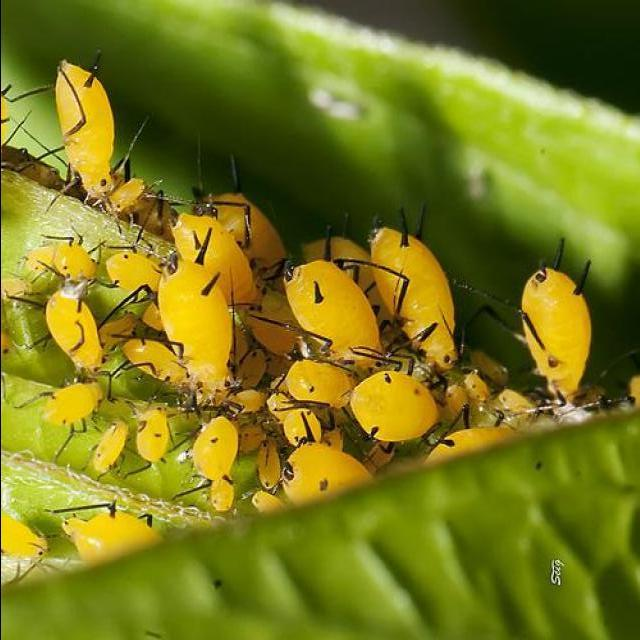aphid: (368, 197, 482, 378), (502, 226, 602, 421), (31, 48, 130, 228), (147, 244, 246, 419), (276, 254, 382, 370), (347, 368, 447, 444), (42, 292, 115, 375), (282, 444, 366, 516), (187, 421, 245, 502), (280, 356, 349, 410), (46, 374, 111, 428), (128, 409, 172, 464), (88, 420, 130, 472)
